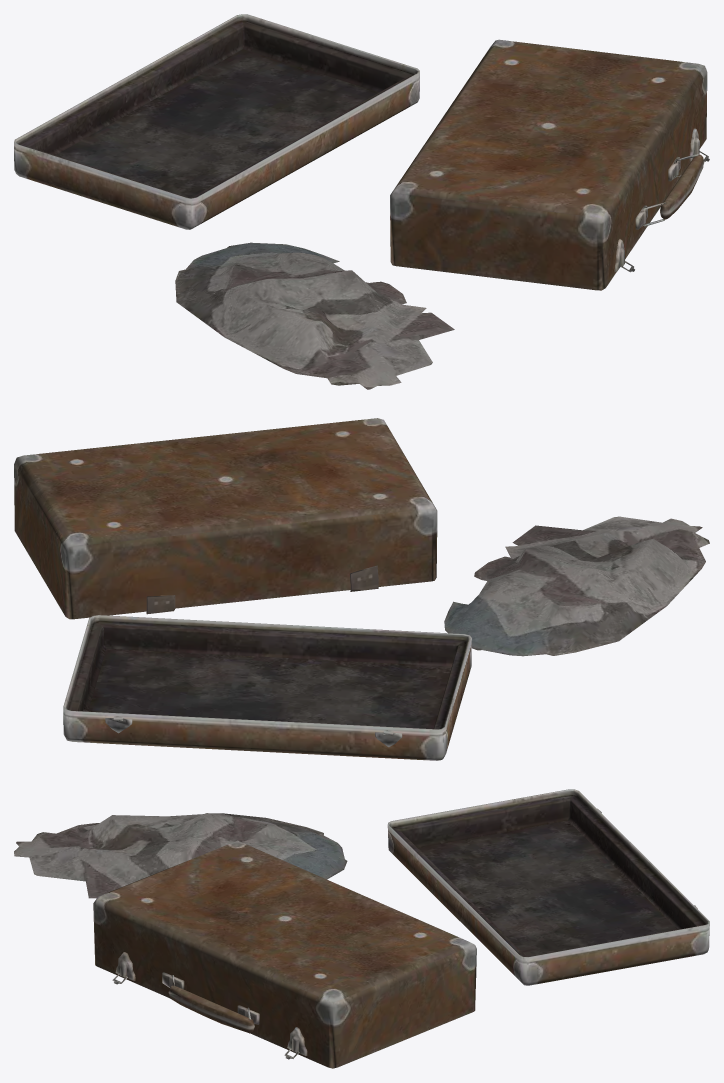
The model's file is suitcase_e.glb.
3 views of the same model, one above another, from view 1: azimuth 30°, elevation 25°; view 2: azimuth 150°, elevation 25°; view 3: azimuth 270°, elevation 25° (orthographic). The views are drawn at different scales.
Visible parts, largest first — view 1: Suitcase_e; view 2: Suitcase_e; view 3: Suitcase_e.
Part boxes in pixels (x1,y1,x2,y2): Suitcase_e: (14, 14, 709, 389); Suitcase_e: (14, 418, 709, 760); Suitcase_e: (14, 789, 709, 1068).
Bounding box in the file's own units: 1.13 × 0.1479 × 1.32.
Materials: 1 (1 with a texture image).
